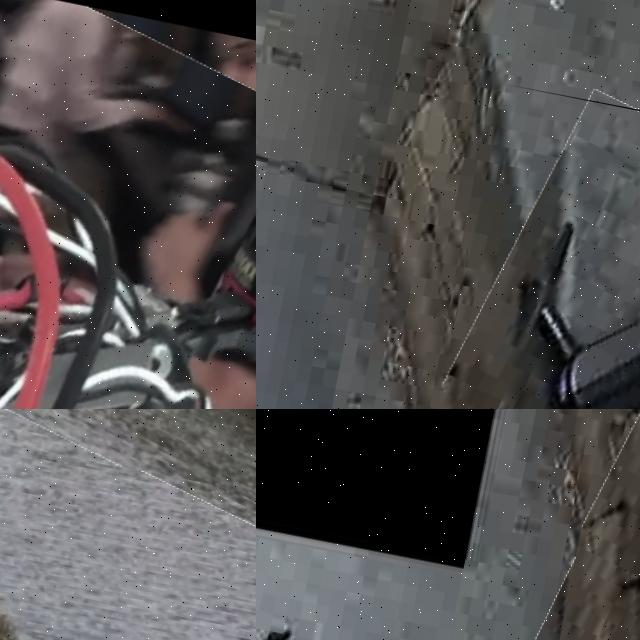0: (407, 83, 640, 409), (544, 409, 640, 640)
drone: (0, 0, 256, 409), (0, 409, 256, 510)
